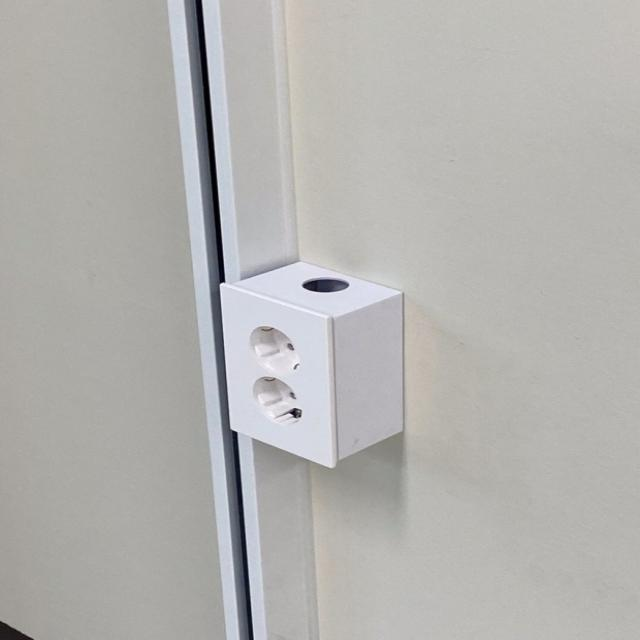typeb: (217, 274, 343, 490)
